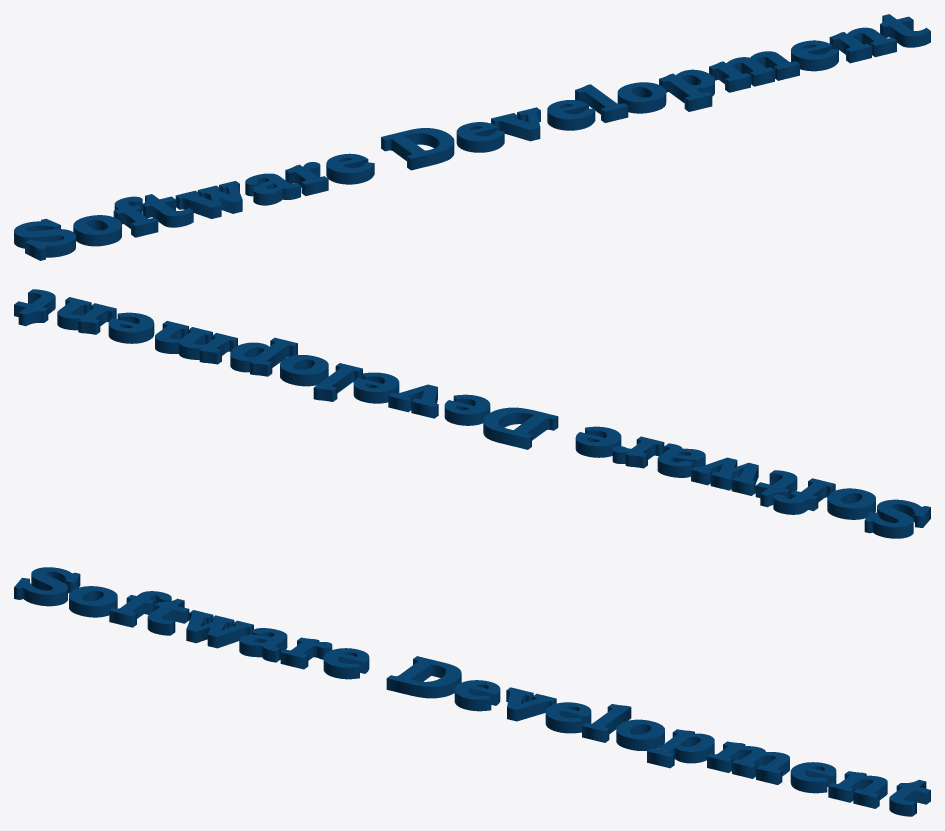
The model's file is software_development.fbx.
3 renders of one model, top to bottom at view 1: azimuth 30°, elevation 25°; view 2: azimuth 150°, elevation 25°; view 3: azimuth 330°, elevation 25°, orthographic.
Visible parts, largest first — view 1: Text; view 2: Text; view 3: Text.
Boxes of the visible parts, left/top/right/bottom form: Text: left=14, top=14, right=930, bottom=260; Text: left=14, top=289, right=930, bottom=538; Text: left=14, top=567, right=930, bottom=816.
Bounding box in the file's own units: 819 × 10 × 65.5.
